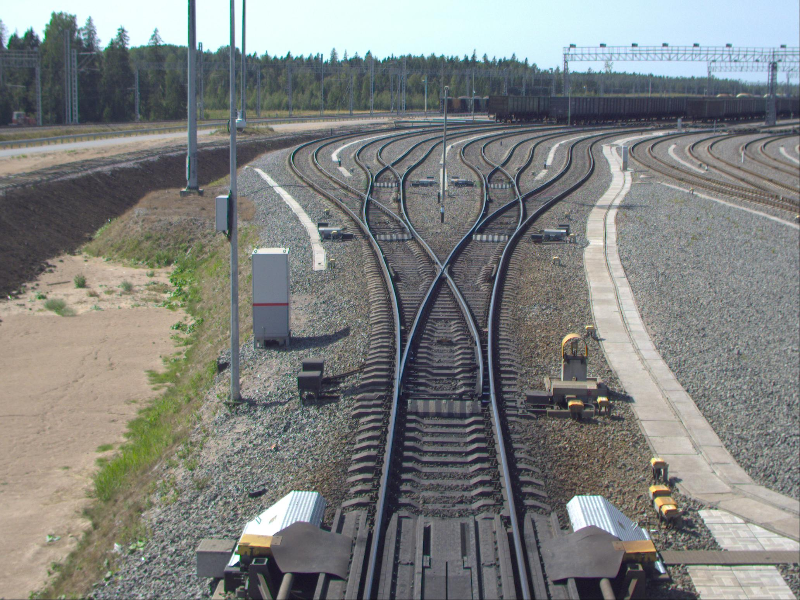left: (467, 193, 542, 232), (371, 162, 407, 183), (486, 164, 517, 186)
right: (395, 261, 496, 403), (356, 191, 422, 236)
